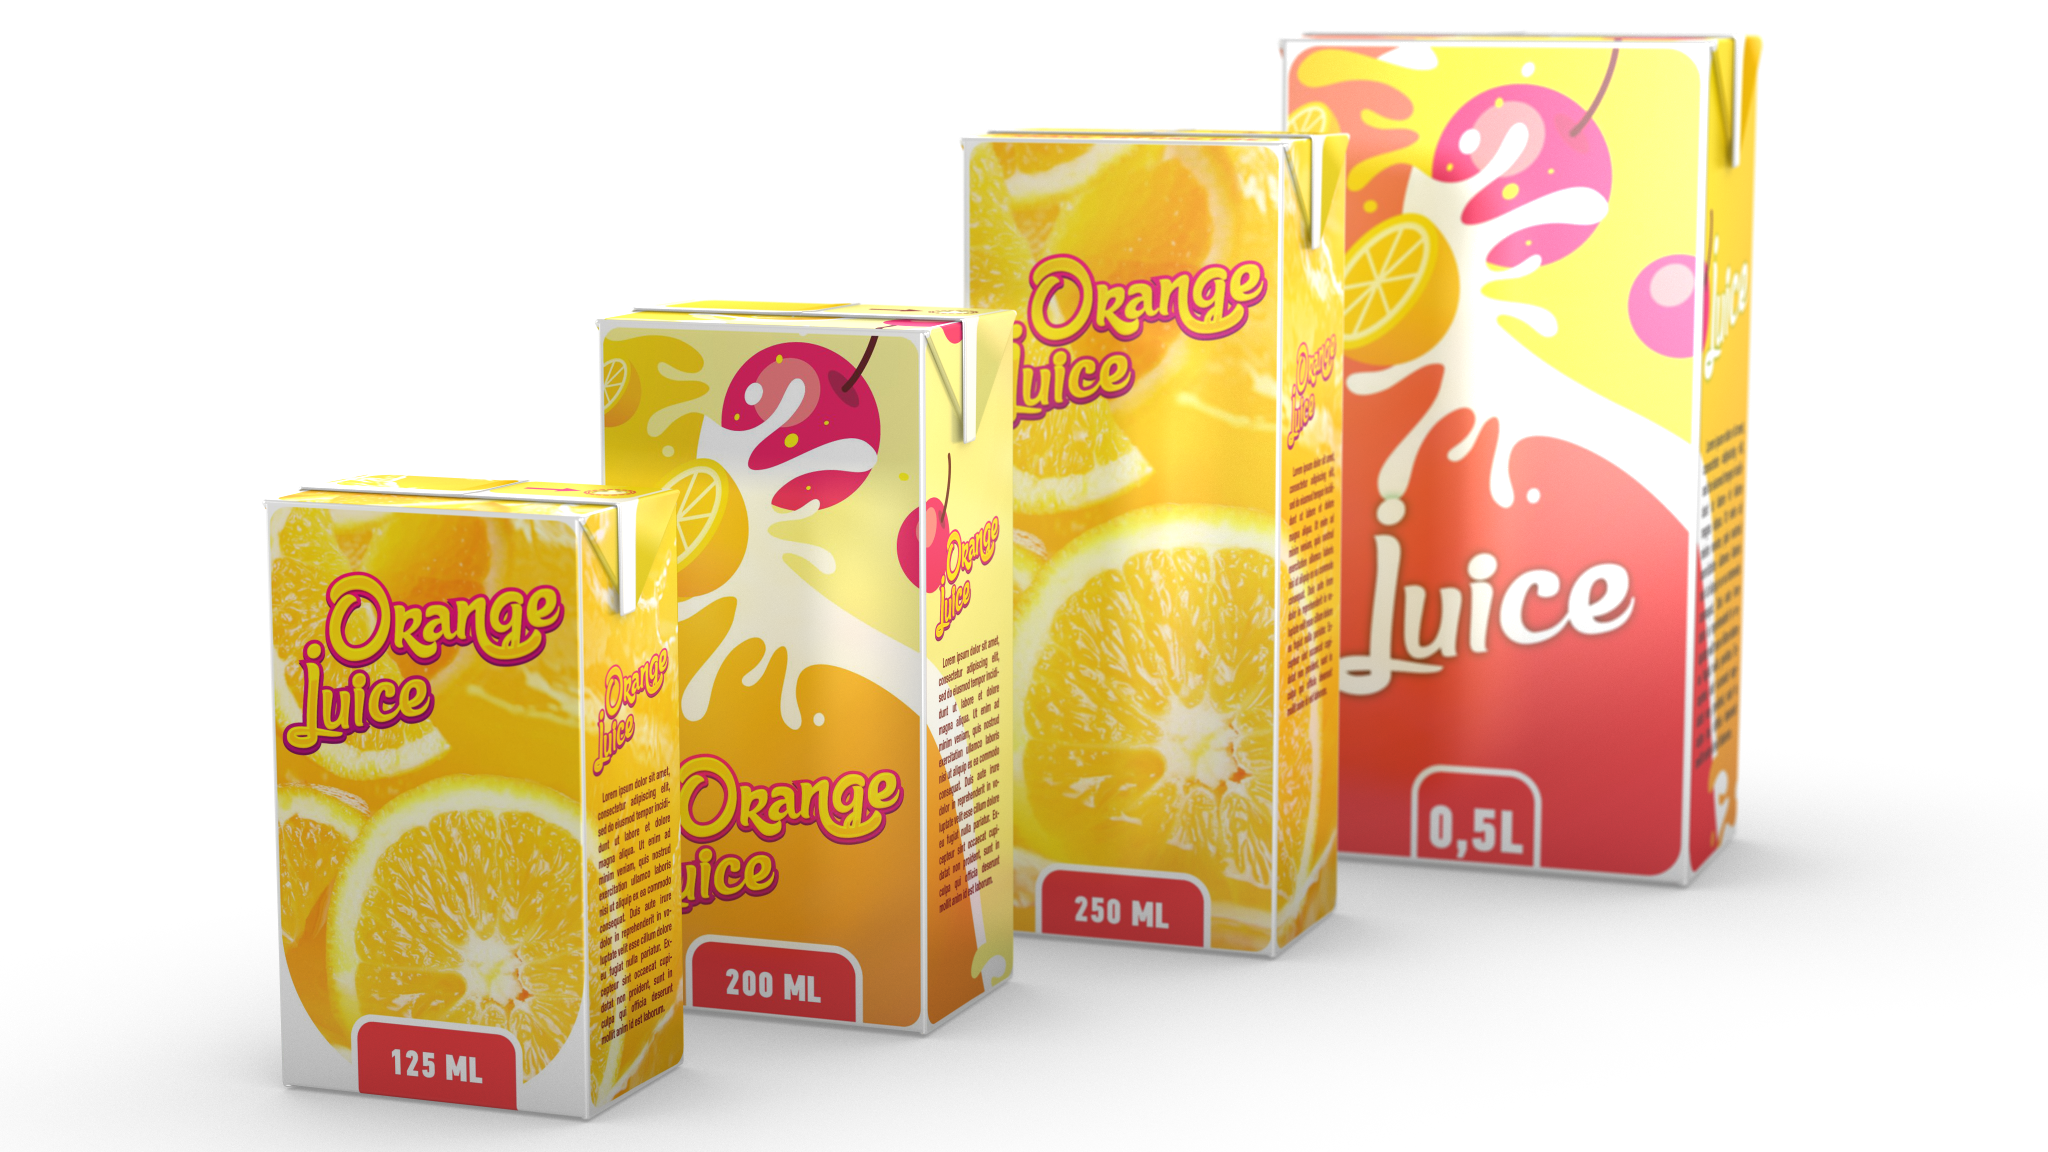carton: (1253, 4, 1782, 947), (942, 108, 1373, 1037), (587, 260, 1044, 1090), (232, 454, 720, 1115)
